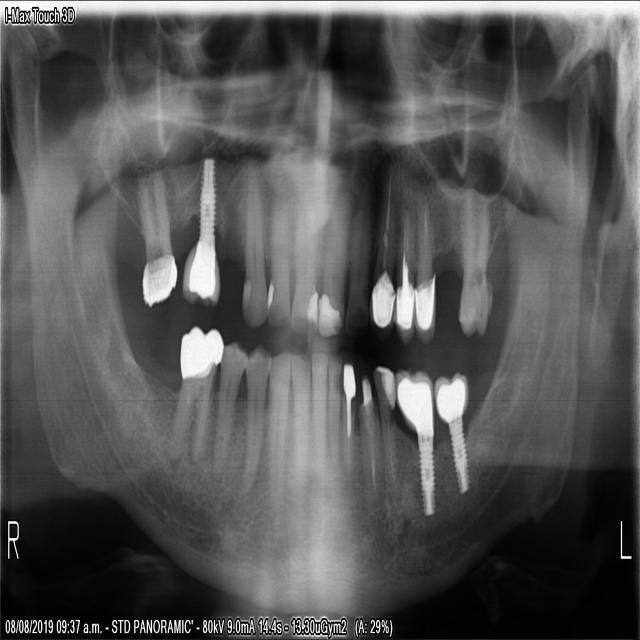LCD: (341, 357, 356, 475)
LCU: (369, 161, 400, 334)
LID: (308, 345, 330, 501), (329, 350, 341, 511)
LIU: (320, 178, 355, 345), (342, 178, 371, 343)
LMD: (395, 365, 436, 526), (432, 370, 471, 501)
LMU: (453, 178, 493, 339)
LPMD: (369, 356, 406, 539), (357, 364, 384, 520)
LPMU: (395, 165, 420, 348), (414, 170, 436, 350)
RCU: (238, 153, 266, 329)
RID: (265, 345, 290, 512), (288, 350, 311, 512)
RIU: (289, 146, 342, 339), (263, 150, 290, 331)
RMD: (162, 318, 225, 462)
RMU: (134, 159, 178, 312)
RPMD: (236, 343, 273, 495), (209, 336, 247, 475)
RPMU: (178, 143, 222, 309)
